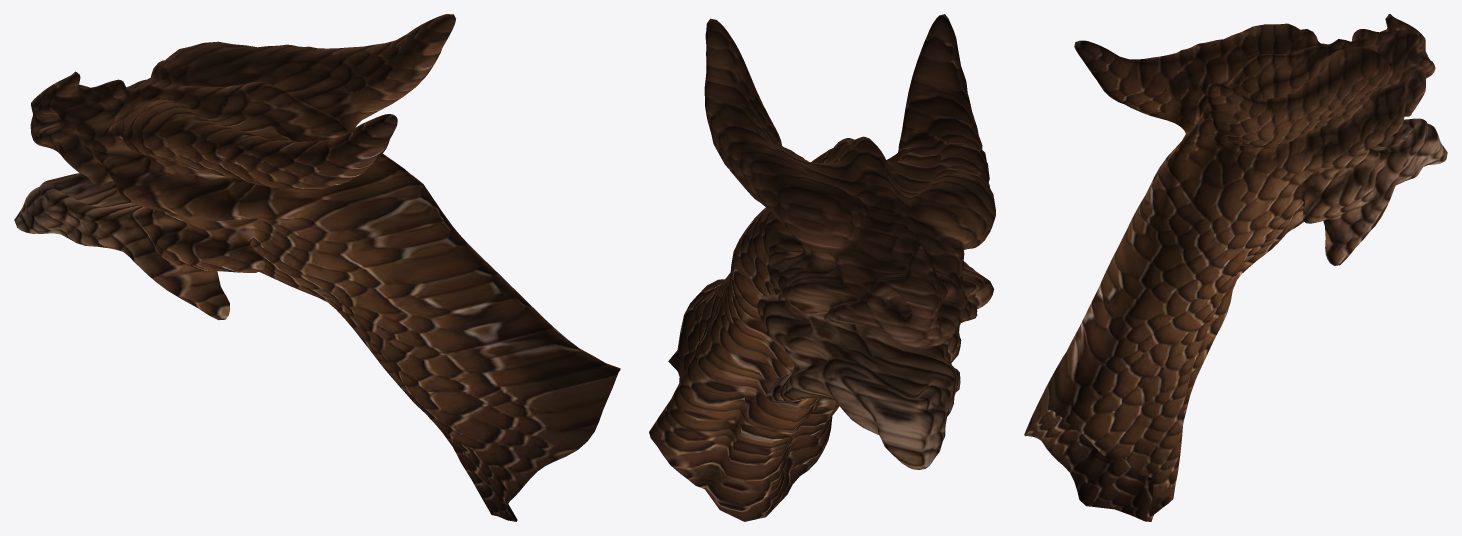
File: Ca_DeA.obj
3 renders of one model, left to right at view 1: azimuth 30°, elevation 25°; view 2: azimuth 150°, elevation 25°; view 3: azimuth 270°, elevation 25°, orthographic. The views are drawn at different scales.
Visible parts, largest first — view 1: CabezaDeA; view 2: CabezaDeA; view 3: CabezaDeA.
Part boxes in pixels (left/top/right/bottom): CabezaDeA: left=14, top=14, right=620, bottom=521; CabezaDeA: left=649, top=14, right=995, bottom=521; CabezaDeA: left=1024, top=14, right=1447, bottom=521.
Bounding box in the file's own units: 2.07 × 2.27 × 2.01.
1 material, 1 textured.
